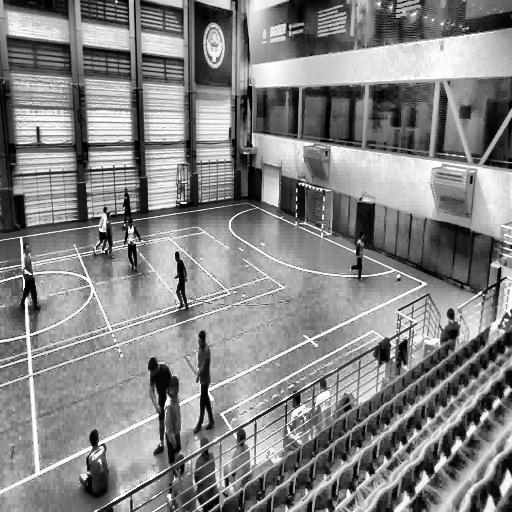ball: (396, 272, 402, 282)
player: (193, 328, 215, 433), (80, 429, 110, 502), (160, 375, 182, 474), (20, 241, 41, 310), (173, 249, 190, 312), (124, 215, 142, 271), (93, 208, 110, 256), (350, 231, 364, 282), (104, 213, 116, 262), (122, 186, 135, 229)
